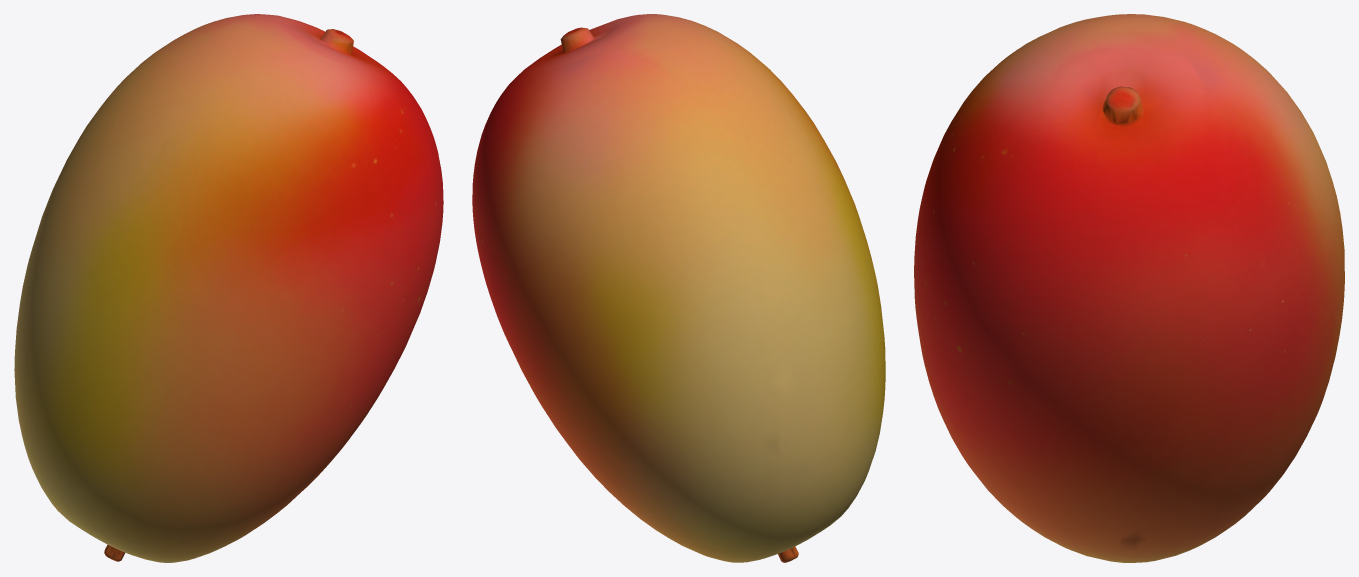
The model's file is mango.glb.
3 renders of one model, left to right at view 1: azimuth 30°, elevation 25°; view 2: azimuth 150°, elevation 25°; view 3: azimuth 270°, elevation 25°, orthographic. The views are drawn at different scales.
Parts seen in each view (by area): view 1: material; view 2: material; view 3: material.
Part boxes in pixels (<box>): material: <box>14,14,443,562</box>; material: <box>472,14,885,562</box>; material: <box>914,14,1344,562</box>.
Bounding box in the file's own units: 0.8687 × 1.1 × 0.7513.
1 material, 1 textured.
